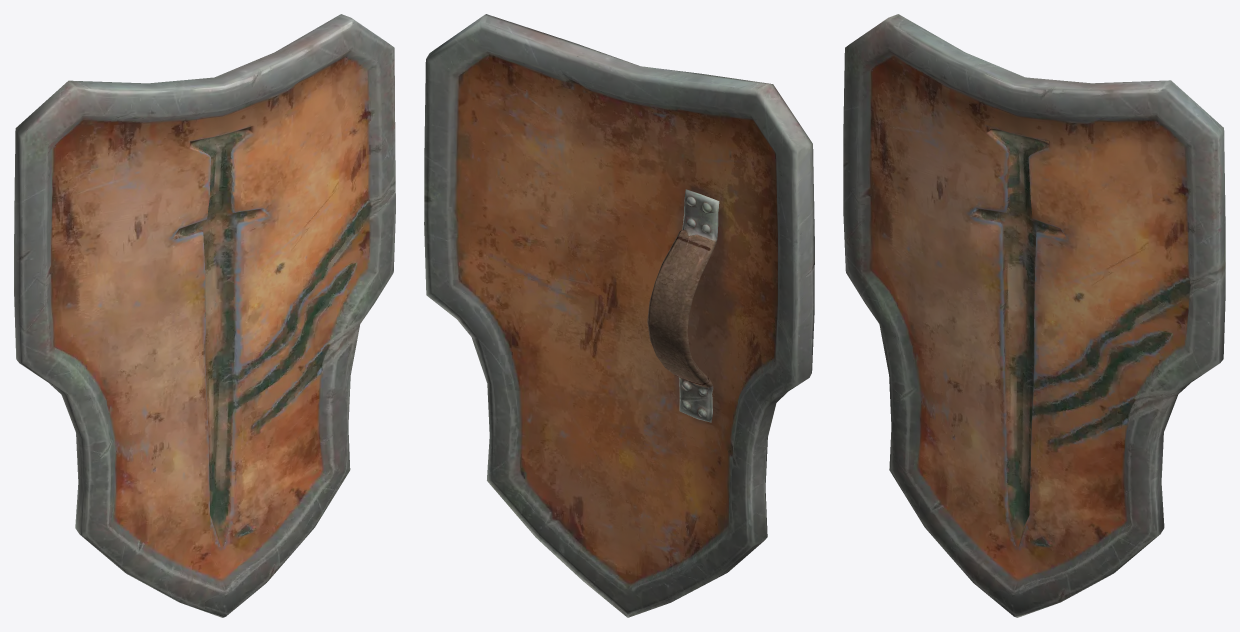
3 renders of one model, left to right at view 1: azimuth 30°, elevation 25°; view 2: azimuth 150°, elevation 25°; view 3: azimuth 330°, elevation 25°, orthographic. The views are drawn at different scales.
Parts seen in each view (by area): view 1: SM_Kite_AntiDragon_1H_01_LOD0; view 2: SM_Kite_AntiDragon_1H_01_LOD0; view 3: SM_Kite_AntiDragon_1H_01_LOD0.
Boxes of the visible parts, x1,y1,x2,y2 form: SM_Kite_AntiDragon_1H_01_LOD0: (14,14,395,617); SM_Kite_AntiDragon_1H_01_LOD0: (424,14,814,617); SM_Kite_AntiDragon_1H_01_LOD0: (843,14,1225,617).
Size of the model in its own units: 0.6502 by 0.9245 by 0.1356.
1 material, 1 textured.
